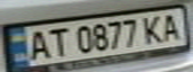0: (72, 22, 93, 54)
7: (121, 16, 142, 47), (106, 19, 127, 49)
8: (90, 20, 112, 52)
A: (21, 27, 54, 61), (157, 11, 187, 42)
K: (139, 12, 169, 45)
T: (42, 25, 69, 57)
